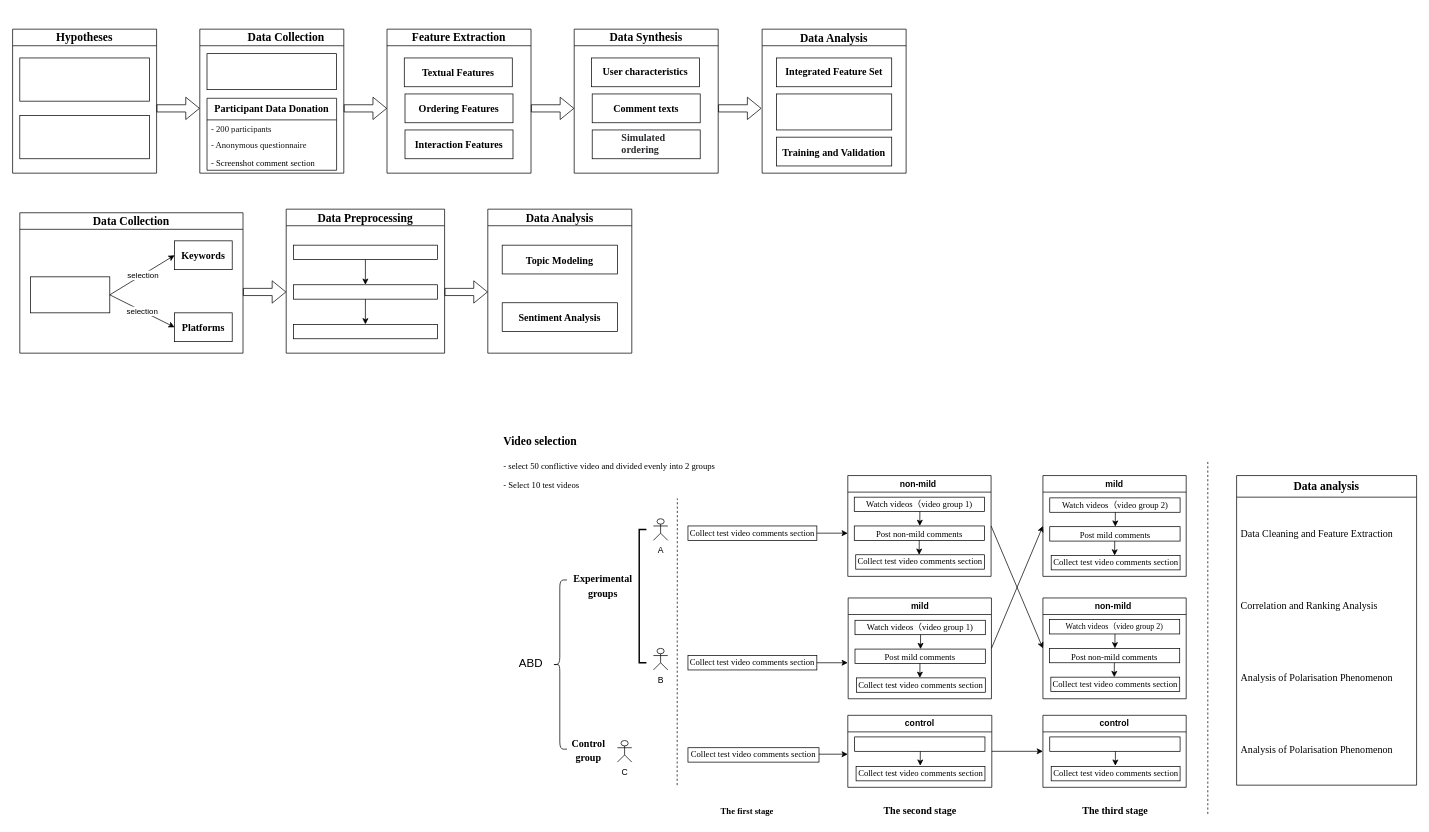
Image size: 1429x832. Some labels were removed from this diagram. Here are the shapes that lost their labels. From the top down, the centre of each, then its label:
At (x=84, y=79): "H1: The recommendation algorithm was used in the comments section".
At (x=271, y=71): "Video Selection : Select 20 contentious videos related to gender concerns.".
At (x=834, y=111): "Select location-sensitive model".
At (x=84, y=137): "H2: Privacy attributes can be inferred from the comments section".
At (x=365, y=252): "Image Processing: ResNet-18;OCR".
At (x=70, y=294): "Crawler Strategy Development".
At (x=365, y=291): "Text Preprocessing".
At (x=365, y=331): "Text Filtering: Chinese BERT".
At (x=919, y=743): "Watch videos（video group 1 )".
At (x=1114, y=743): "Watch videos（video group 2)".
